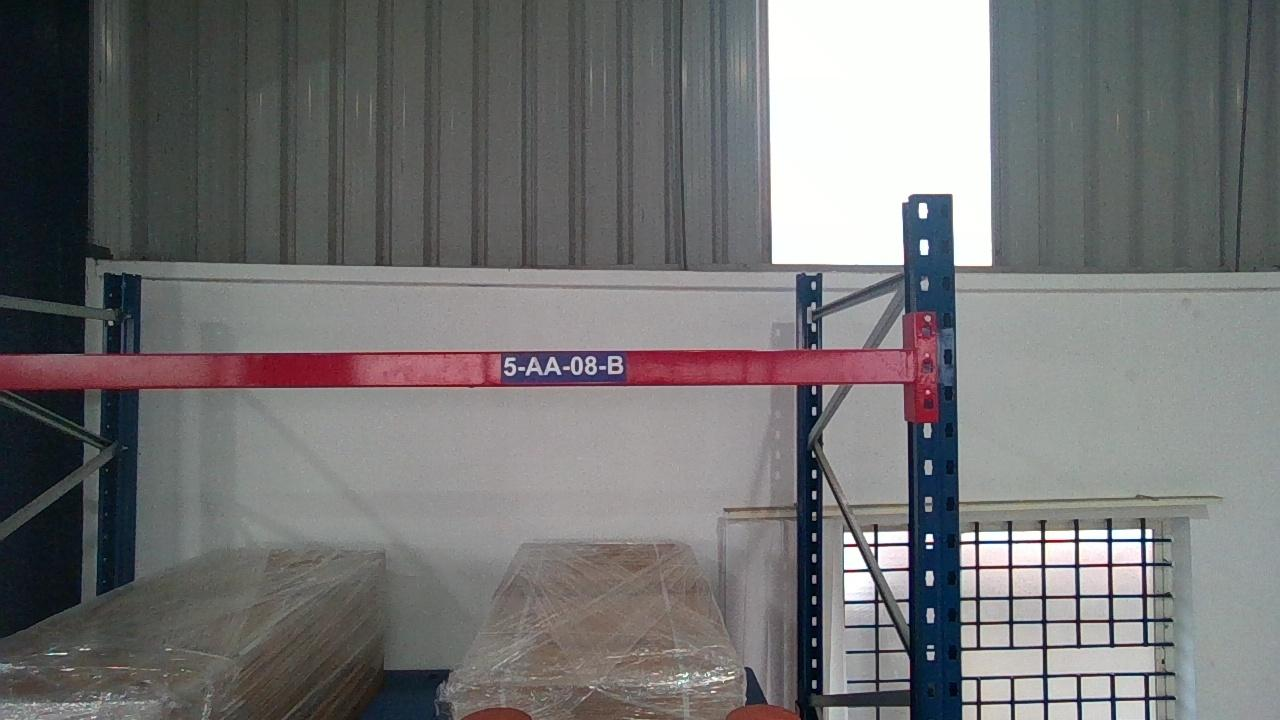h_rack: (0, 349, 914, 388)
